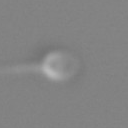normal: (1, 58, 41, 78)
